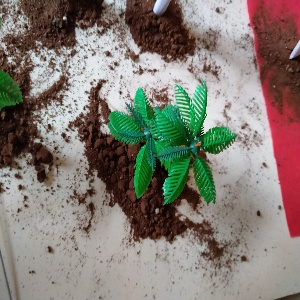plant: (95, 72, 230, 205)
